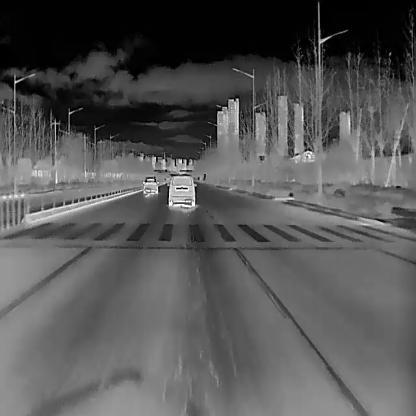car: (167, 174, 196, 208), (142, 175, 159, 193)
